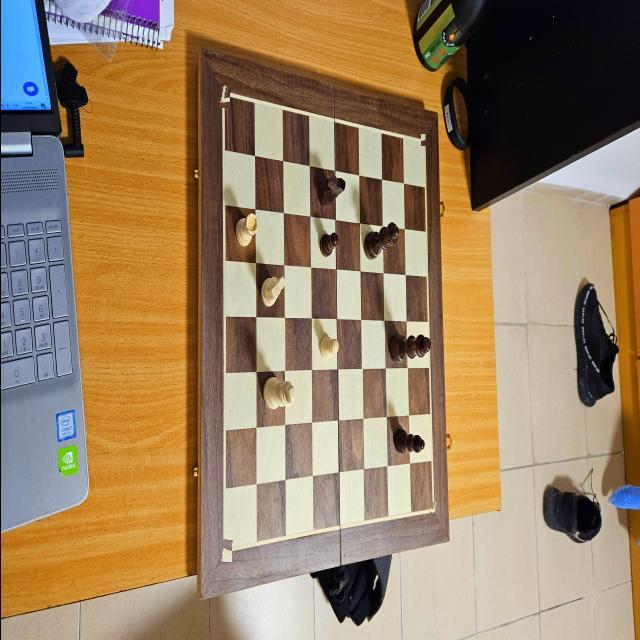chess-table-corners: (217, 85, 230, 108), (220, 540, 232, 562), (428, 502, 438, 519), (420, 134, 428, 146)
